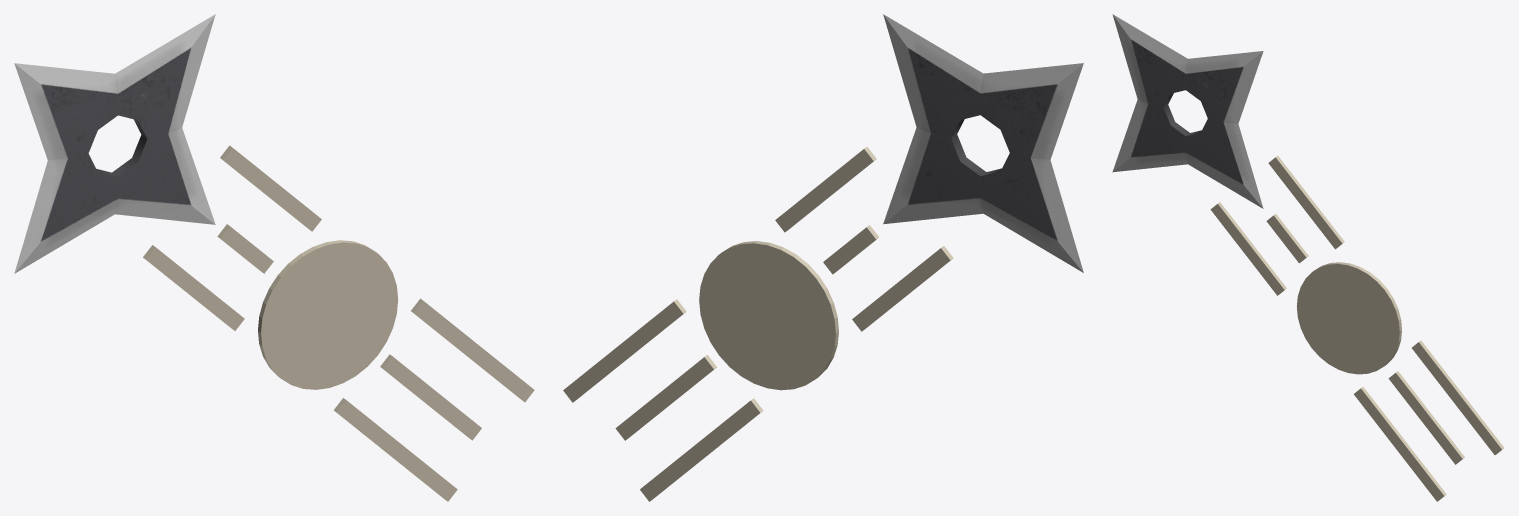
Rendered from SM_Shuriken_Pierce.fbx.
3 renders of one model, left to right at view 1: azimuth 30°, elevation 25°; view 2: azimuth 150°, elevation 25°; view 3: azimuth 330°, elevation 25°, orthographic. The views are drawn at different scales.
Parts seen in each view (by area): view 1: Shuriken_Pierce; view 2: Shuriken_Pierce; view 3: Shuriken_Pierce.
Boxes of the visible parts, bbox=[...] form: Shuriken_Pierce: bbox=[14, 14, 534, 501]; Shuriken_Pierce: bbox=[563, 14, 1083, 501]; Shuriken_Pierce: bbox=[1112, 14, 1504, 501].
Bounding box in the file's own units: 190 × 190 × 3.82.
